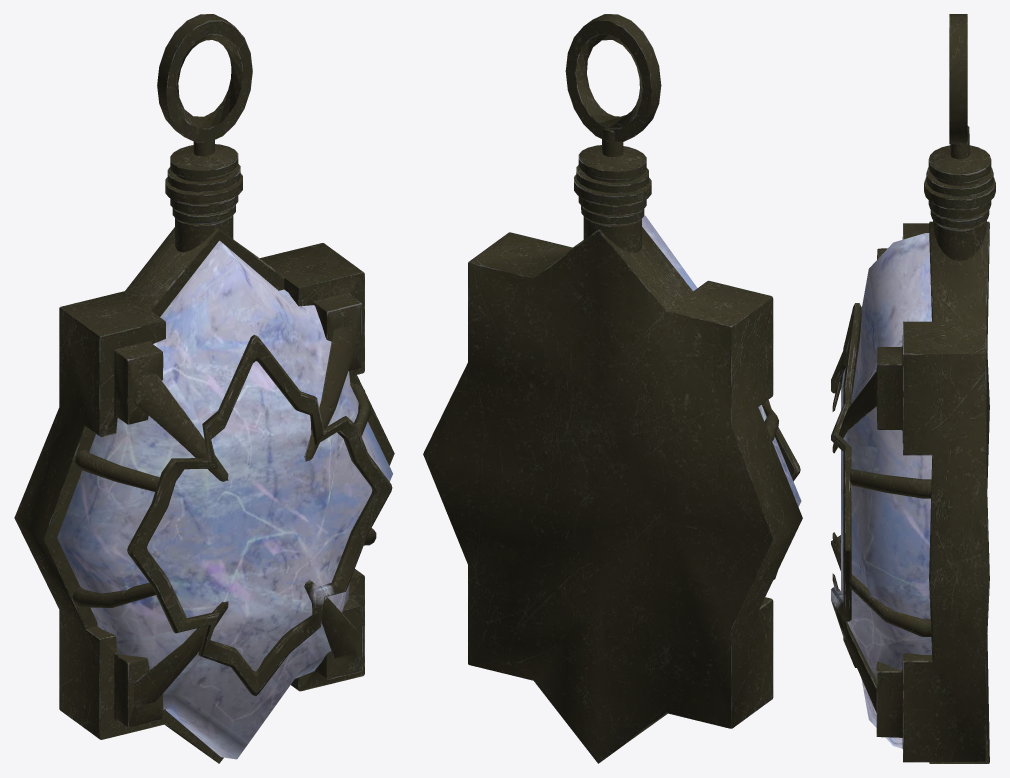
Rendered from pendant_lowPoly.glb.
3 renders of one model, left to right at view 1: azimuth 30°, elevation 25°; view 2: azimuth 150°, elevation 25°; view 3: azimuth 270°, elevation 25°, orthographic.
Parts seen in each view (by area): view 1: Mesh_0.004; view 2: Mesh_0.004; view 3: Mesh_0.004.
Part boxes in pixels (<box>): Mesh_0.004: <box>14,14,394,763</box>; Mesh_0.004: <box>423,14,802,763</box>; Mesh_0.004: <box>831,14,995,763</box>.
Bounding box in the file's own units: 0.25 × 0.5 × 0.1.
Materials: 1 (1 with a texture image).
